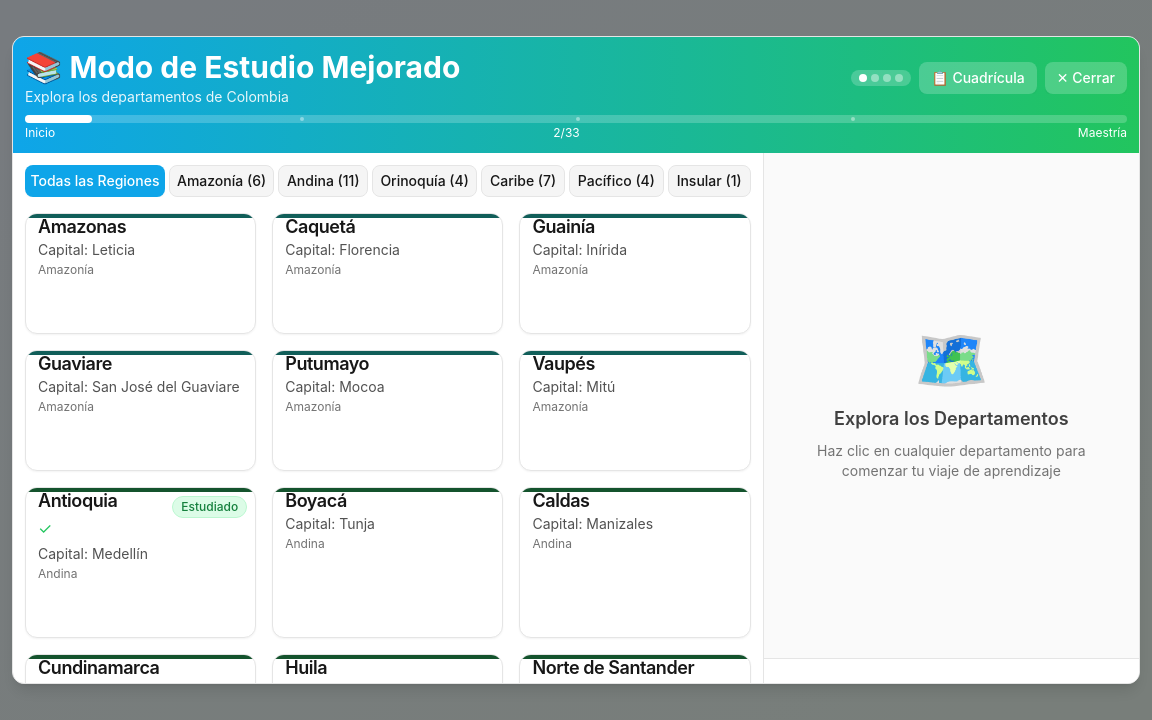
it: StudyMode Component › Region Filtering › should filter departments when region is selected
The width and height of the screenshot is (1152, 720).
Click the button "Caribe (7)".
click(523, 180)  # box top-left (481, 164), bottom-right (565, 196)
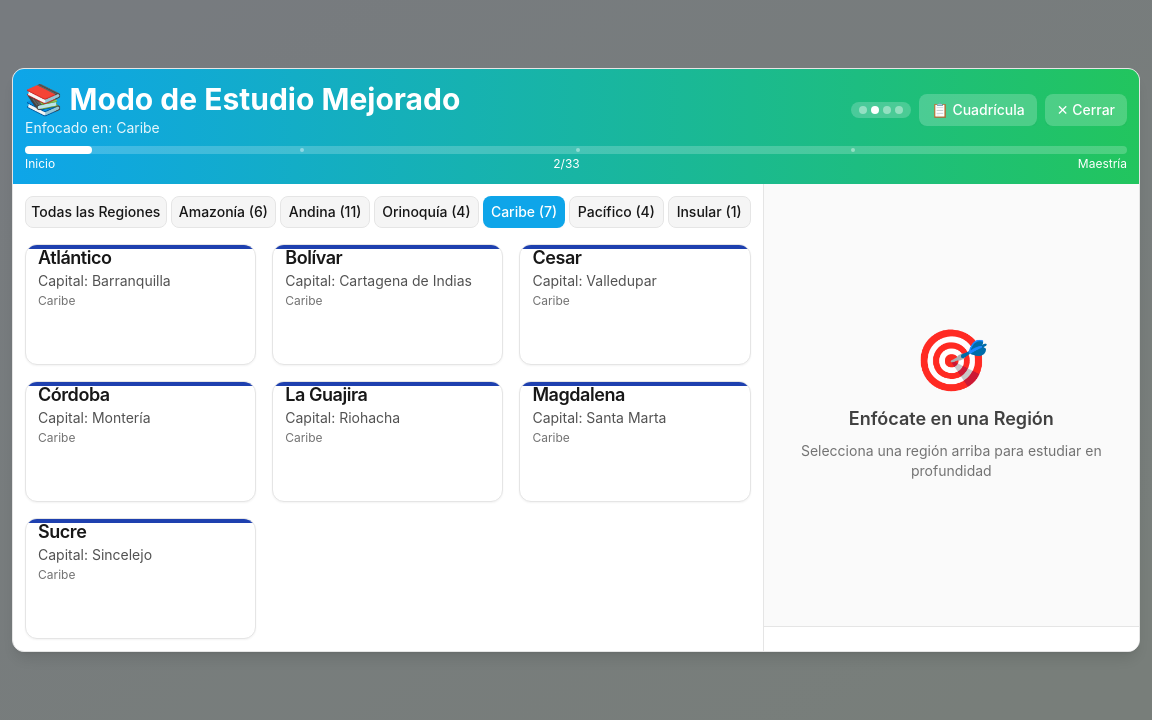
Result: the text "Enfocado en: Caribe" is shown at top-left (25, 119), bottom-right (160, 136)
